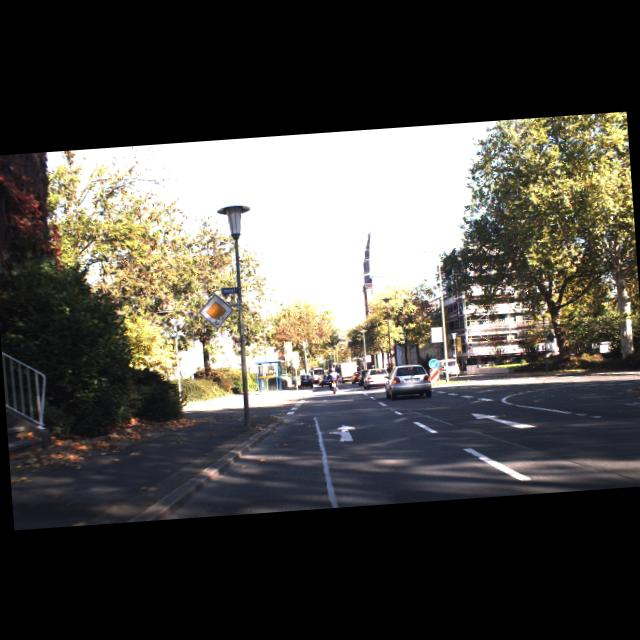mandatory: (428, 357, 439, 368)
other: (198, 290, 235, 328)
